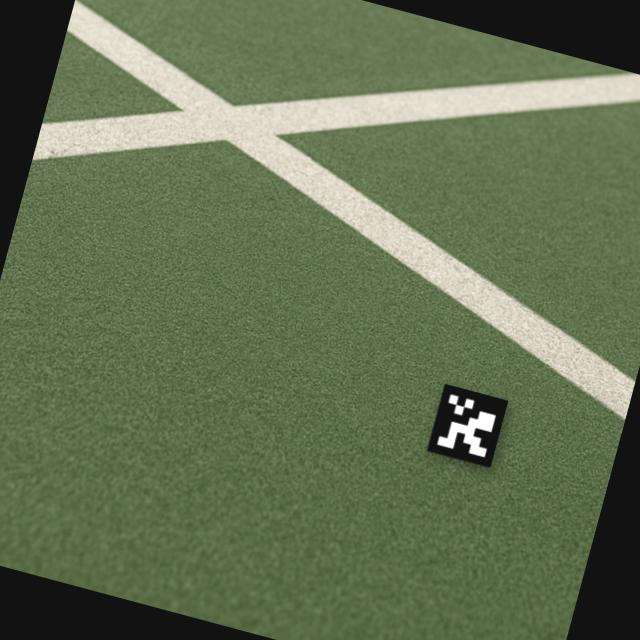marker: (413, 372, 527, 485)
